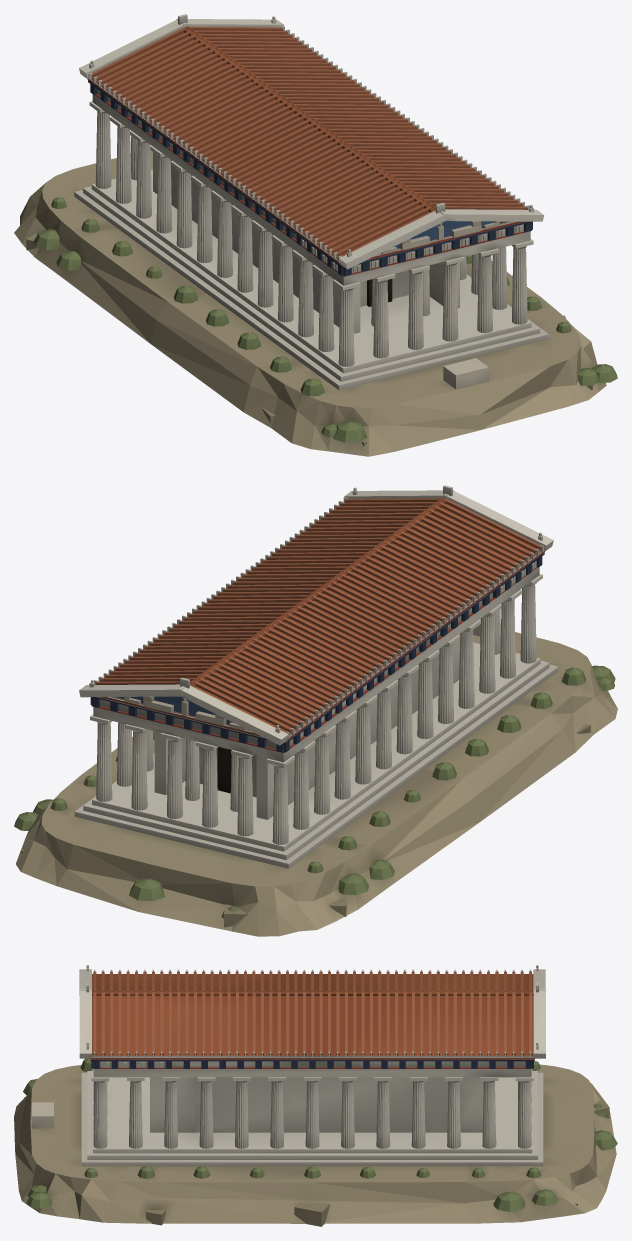
Rendered from hephaisteion.glb.
The picture shows the model from 3 angles, top to bottom: view 1: azimuth 30°, elevation 25°; view 2: azimuth 150°, elevation 25°; view 3: azimuth 270°, elevation 25°; orthographic projection. The views are drawn at different scales.
Parts seen in each view (by area): view 1: p0_base, p3_roof, p1_columns, p2_entablature; view 2: p0_base, p3_roof, p1_columns, p2_entablature; view 3: p0_base, p3_roof, p1_columns, p2_entablature.
Part boxes in pixels (left/top/right/bottom): p0_base: left=14, top=150, right=617, bottom=456; p3_roof: left=79, top=14, right=544, bottom=269; p1_columns: left=89, top=101, right=533, bottom=389; p2_entablature: left=87, top=79, right=532, bottom=285; p0_base: left=14, top=632, right=617, bottom=936; p3_roof: left=79, top=485, right=553, bottom=745; p1_columns: left=90, top=574, right=542, bottom=844; p2_entablature: left=90, top=551, right=544, bottom=762; p0_base: left=14, top=1058, right=617, bottom=1226; p3_roof: left=79, top=965, right=545, bottom=1058; p1_columns: left=32, top=1070, right=533, bottom=1148; p2_entablature: left=90, top=1056, right=534, bottom=1077.
Size of the model in its own units: 24.39 by 13.6 by 43.66.
